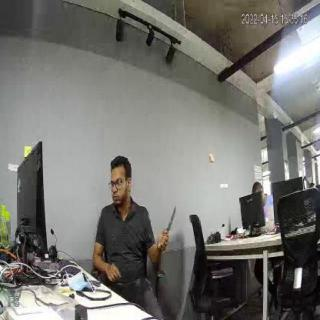knife: (164, 204, 178, 242)
